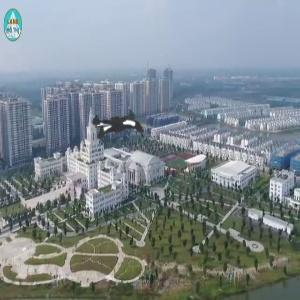drone: (41, 51, 193, 203)
